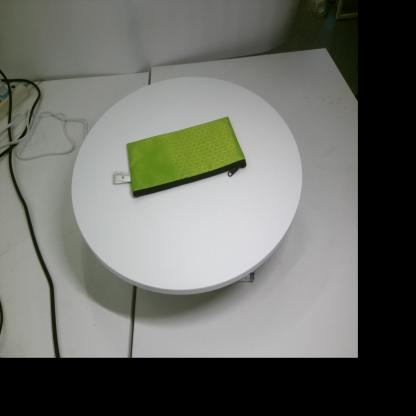Stationery: (114, 116, 247, 197)
